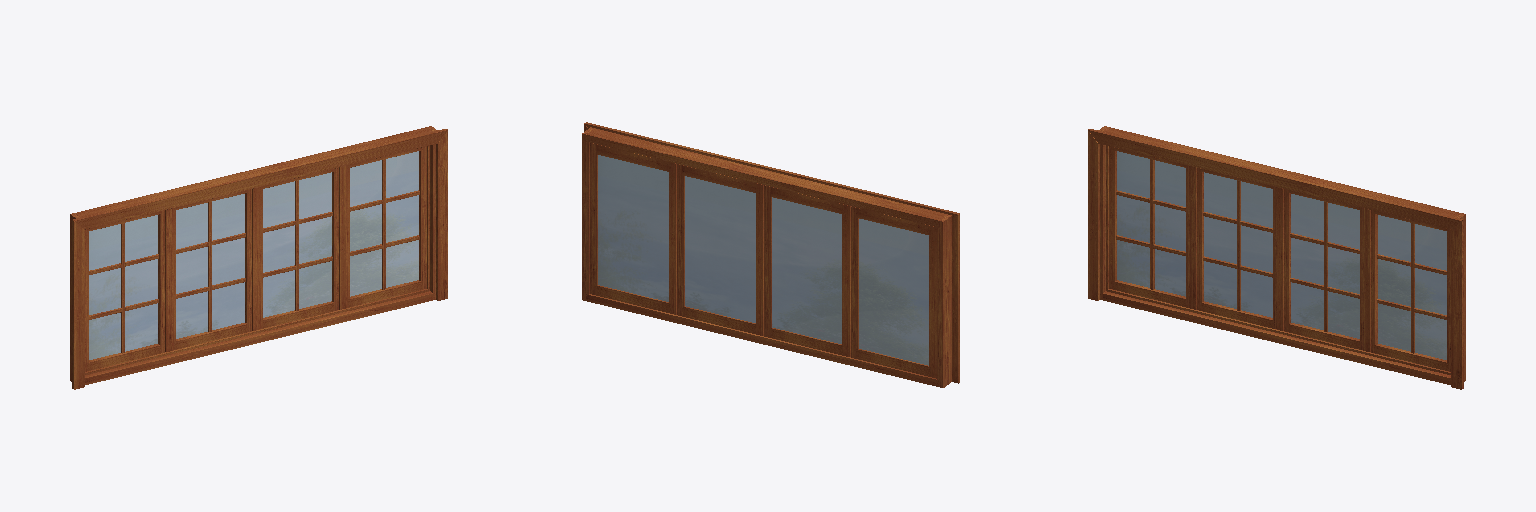
The picture shows the model from 3 angles: view 1: azimuth 30°, elevation 25°; view 2: azimuth 150°, elevation 25°; view 3: azimuth 330°, elevation 25°; orthographic projection.
Visible parts, largest first — view 1: glass002, glass001, glass003, glass004, trim_top, box_bottom, box_top, trim_left, trim_right, stop_bottom, window_right004, astragal003 (+14 smaller); view 2: glass003, glass004, glass001, glass002, box_top, box_bottom, box_left, trim_top, window_left002, trim_left, box_right, window_left003 (+14 smaller); view 3: glass003, glass004, glass002, glass001, trim_top, box_bottom, box_top, trim_right, trim_left, stop_bottom, window_left001, astragal001 (+15 smaller).
Boxes of the visible parts, x1=… form: glass002: x1=176, y1=194, x2=244, y2=338; glass001: x1=89, y1=215, x2=157, y2=359; glass003: x1=263, y1=172, x2=331, y2=317; glass004: x1=350, y1=151, x2=418, y2=296; trim_top: x1=73, y1=129, x2=447, y2=229; box_bottom: x1=85, y1=291, x2=435, y2=384; box_top: x1=75, y1=127, x2=432, y2=217; trim_left: x1=72, y1=220, x2=84, y2=389; trim_right: x1=436, y1=131, x2=447, y2=300; stop_bottom: x1=85, y1=289, x2=429, y2=374; window_right004: x1=419, y1=146, x2=426, y2=288; astragal003: x1=339, y1=166, x2=345, y2=309; glass003: x1=685, y1=176, x2=755, y2=322; glass004: x1=598, y1=155, x2=668, y2=301; glass001: x1=859, y1=219, x2=928, y2=365; glass002: x1=772, y1=197, x2=841, y2=343; box_top: x1=586, y1=128, x2=947, y2=227; box_bottom: x1=586, y1=294, x2=938, y2=386; box_left: x1=937, y1=215, x2=951, y2=387; trim_top: x1=585, y1=122, x2=959, y2=219; window_left002: x1=842, y1=204, x2=850, y2=356; trim_left: x1=952, y1=214, x2=959, y2=383; box_right: x1=582, y1=127, x2=594, y2=300; window_left003: x1=756, y1=183, x2=763, y2=335; glass003: x1=1291, y1=194, x2=1359, y2=338; glass004: x1=1378, y1=215, x2=1446, y2=359; glass002: x1=1204, y1=172, x2=1272, y2=317; glass001: x1=1117, y1=151, x2=1185, y2=296; trim_top: x1=1088, y1=129, x2=1462, y2=229; box_bottom: x1=1100, y1=291, x2=1450, y2=384; box_top: x1=1103, y1=128, x2=1460, y2=216; trim_right: x1=1451, y1=220, x2=1463, y2=389; trim_left: x1=1088, y1=131, x2=1099, y2=300; stop_bottom: x1=1106, y1=289, x2=1450, y2=374; window_left001: x1=1109, y1=146, x2=1116, y2=288; astragal001: x1=1190, y1=166, x2=1196, y2=309.
Bounding box in the file's own units: 87 × 37.51 × 4.25.
7 materials, 7 textured.